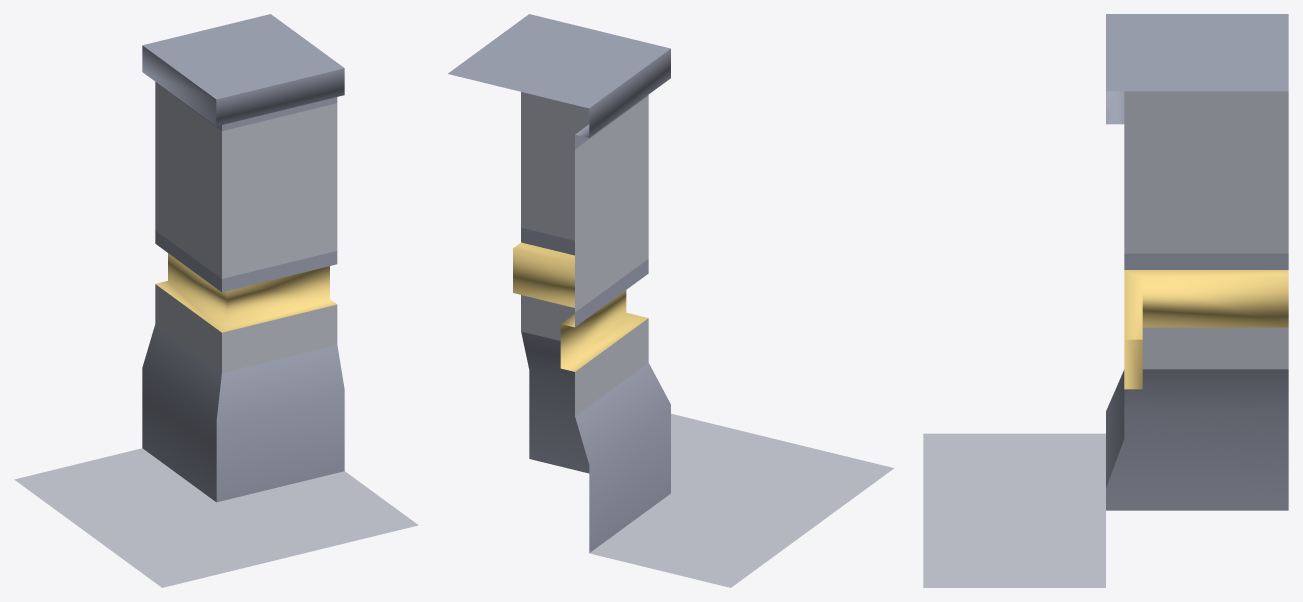
The model's file is structure-corner-outer.fbx.
3 views of the same model, side by side, from view 1: azimuth 30°, elevation 25°; view 2: azimuth 150°, elevation 25°; view 3: azimuth 270°, elevation 25° (orthographic). The views are drawn at different scales.
Parts seen in each view (by area): view 1: structure-corner-outer; view 2: structure-corner-outer; view 3: structure-corner-outer.
Boxes of the visible parts, x1,y1,x2,y2 form: structure-corner-outer: (14, 14, 418, 587); structure-corner-outer: (448, 14, 893, 587); structure-corner-outer: (923, 14, 1288, 587).
Size of the model in its own units: 200 by 300 by 200.
